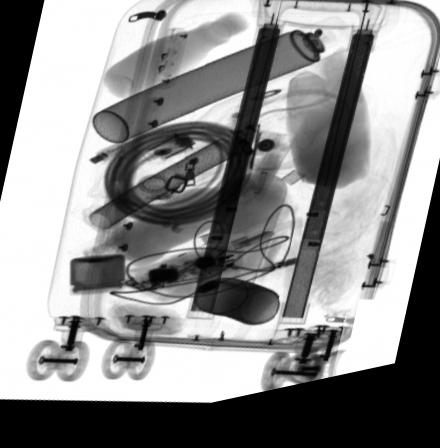Sprayer: (92, 30, 357, 147), (193, 287, 279, 335)
